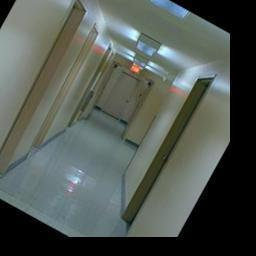Puerta: (0, 0, 93, 184), (120, 79, 210, 228), (102, 71, 138, 118)
